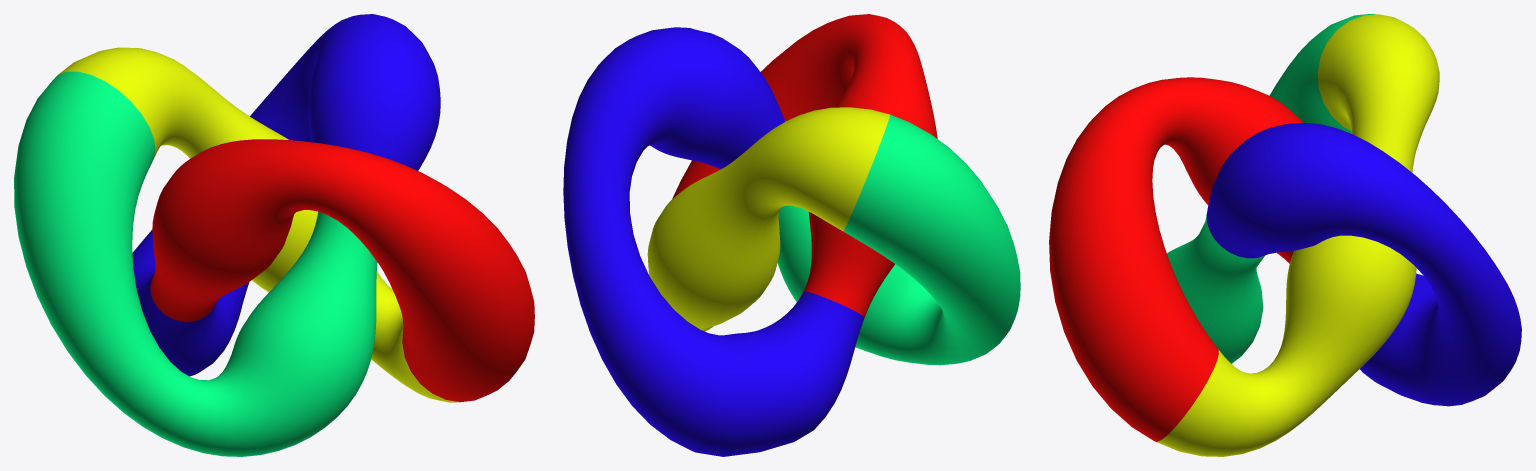
Rendered from Torus_MultiSubMaterial.FBX.
3 renders of one model, left to right at view 1: azimuth 30°, elevation 25°; view 2: azimuth 150°, elevation 25°; view 3: azimuth 270°, elevation 25°, orthographic. The views are drawn at different scales.
Parts seen in each view (by area): view 1: Torus_MultiSubMaterial; view 2: Torus_MultiSubMaterial; view 3: Torus_MultiSubMaterial.
Boxes of the visible parts, x1,y1,x2,y2 form: Torus_MultiSubMaterial: (14,14,534,456); Torus_MultiSubMaterial: (563,14,1020,456); Torus_MultiSubMaterial: (1049,14,1521,456).
Size of the model in its own units: 110 by 88.34 by 115.
